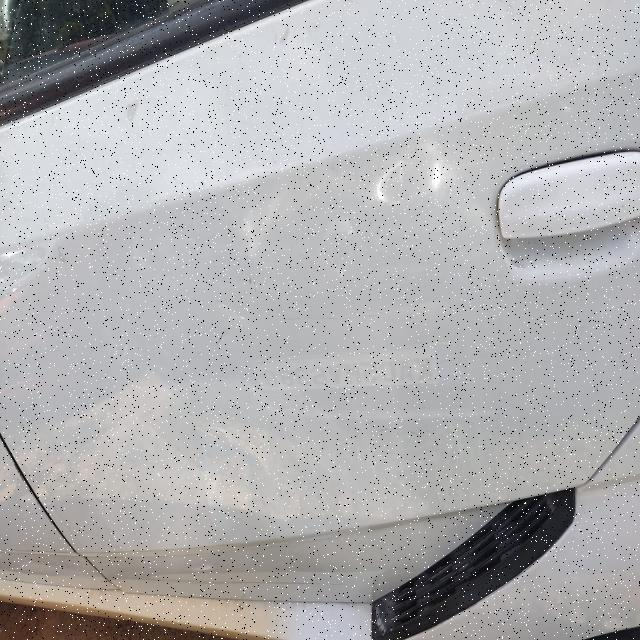bonnet-dent: (35, 14, 590, 546)
